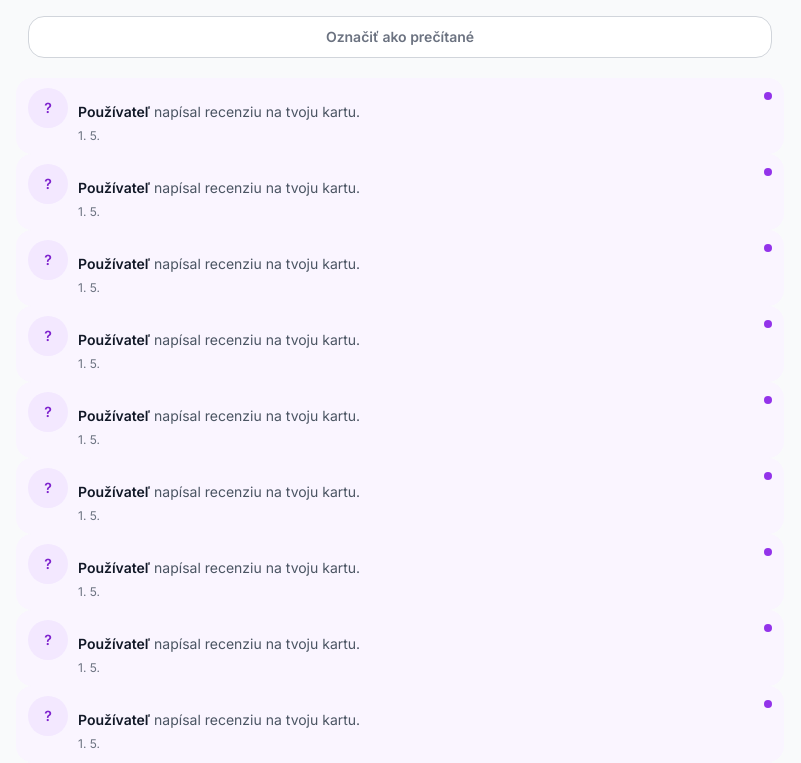
Test: NotificationsFeed refresh › hides the mark-all error box when the user retries and the list loads again
The image size is (801, 763).
Step 1. Click the button "Označiť ako prečítané" → (400, 37), box [28,16,772,58]
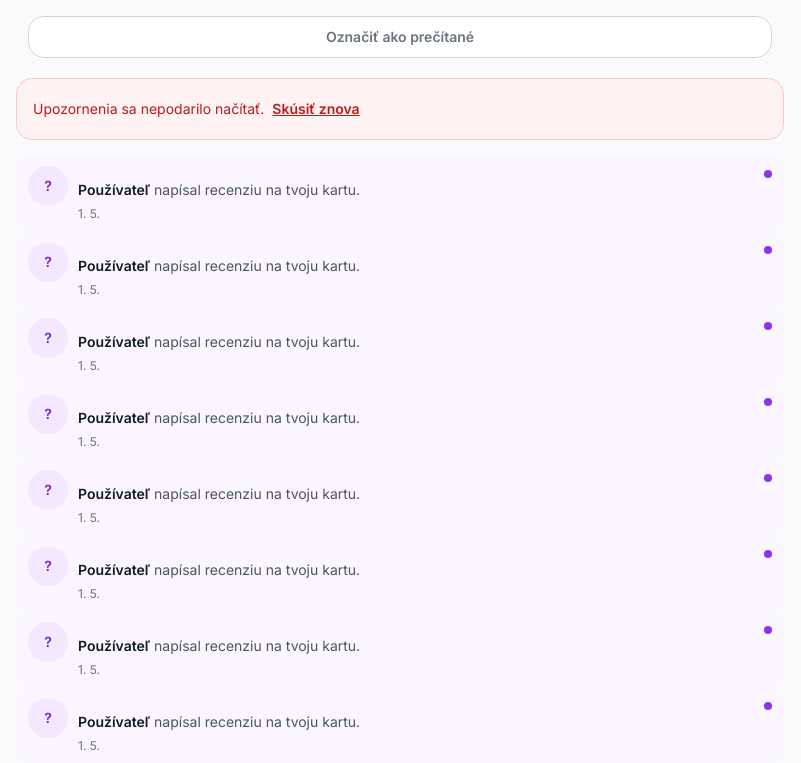
Step 2. Click the button "Skúsiť znova" → (316, 109), box [272,91,360,127]
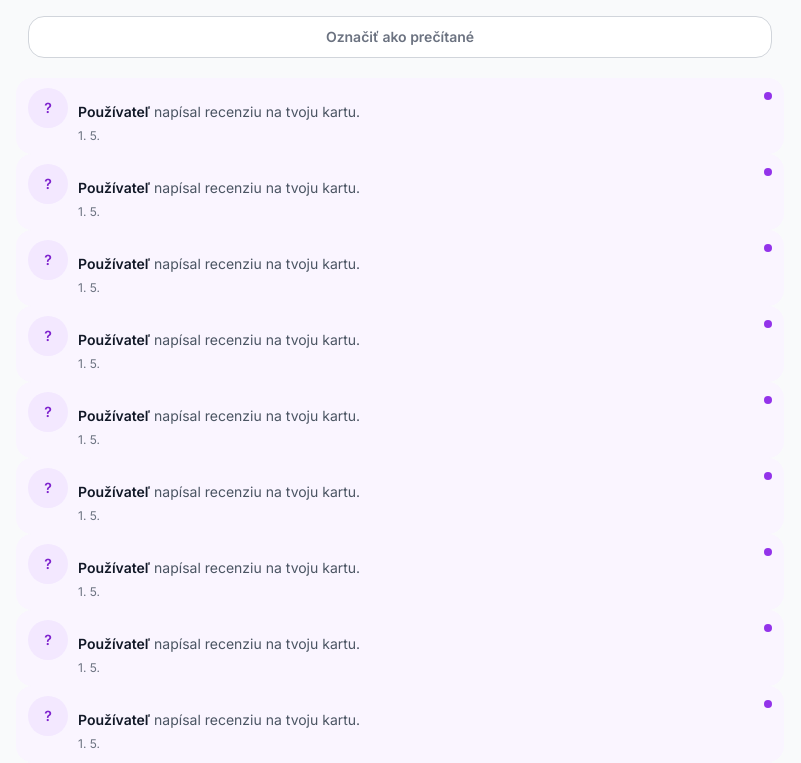
expect the button "Skúsiť znova" is gone: met
